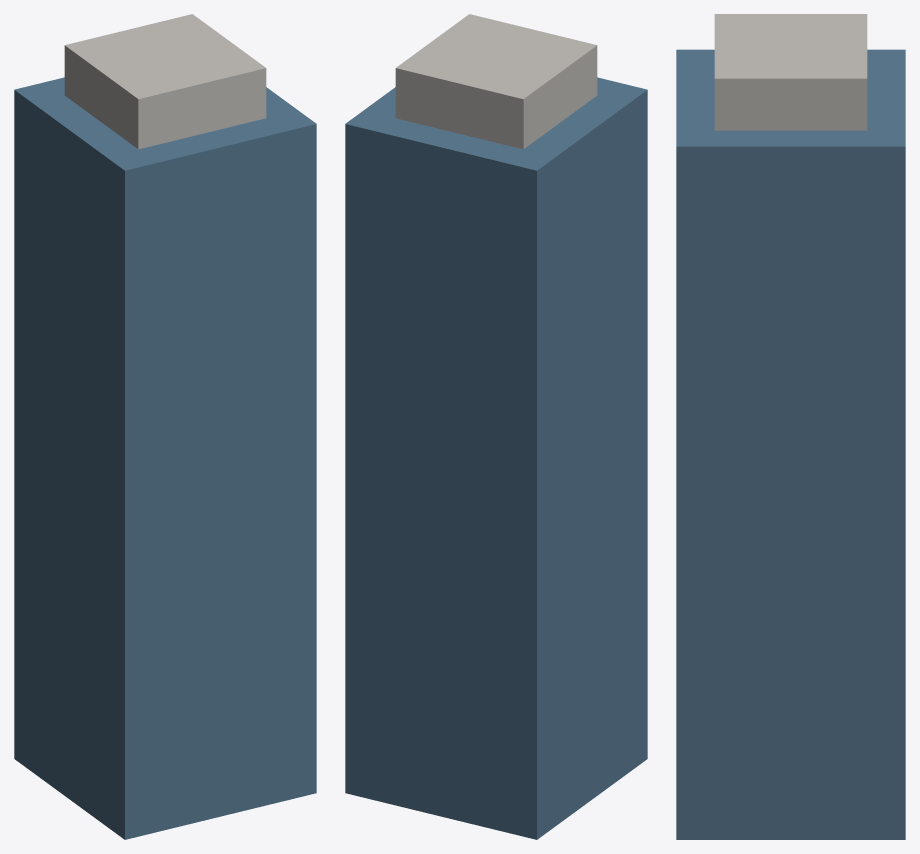
File: building_tower.glb
The picture shows the model from 3 angles, left to right: view 1: azimuth 30°, elevation 25°; view 2: azimuth 150°, elevation 25°; view 3: azimuth 270°, elevation 25°; orthographic projection. The views are drawn at different scales.
Parts seen in each view (by area): view 1: Cube, Cube.001; view 2: Cube, Cube.001; view 3: Cube, Cube.001.
Boxes of the visible parts, x1,y1,x2,y2 form: Cube: (14, 77, 316, 839); Cube.001: (64, 14, 266, 149); Cube: (345, 77, 647, 839); Cube.001: (395, 14, 597, 149); Cube: (676, 49, 905, 839); Cube.001: (714, 14, 867, 130).
Size of the model in its own units: 12 by 43 by 12.
